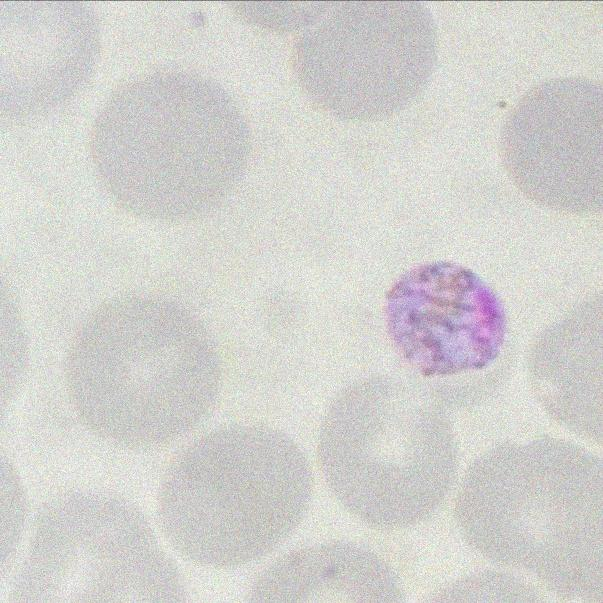Infected: (382, 262, 517, 380)
Uninfected: (63, 291, 218, 448), (93, 69, 247, 225), (460, 436, 603, 603), (153, 427, 307, 566), (318, 381, 461, 528), (15, 486, 181, 603), (293, 0, 441, 120), (498, 81, 603, 211)
